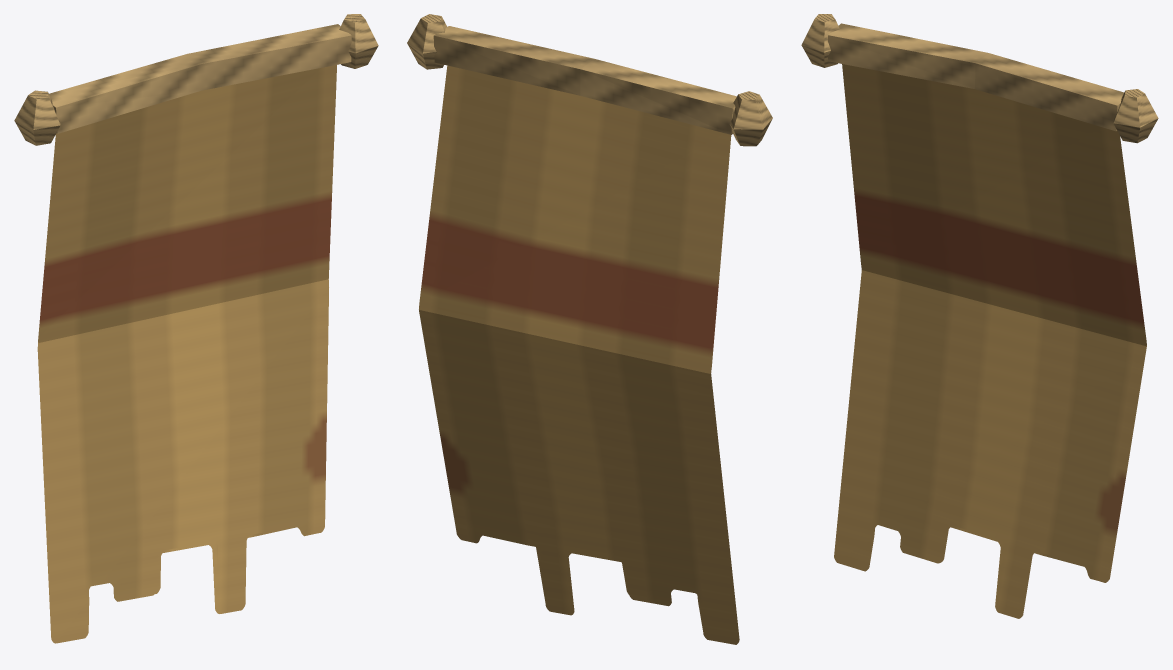
File: SM_MK07_ClothShort.fbx
3 views of the same model, side by side, from view 1: azimuth 30°, elevation 25°; view 2: azimuth 150°, elevation 25°; view 3: azimuth 330°, elevation 25° (orthographic). The views are drawn at different scales.
Visible parts, largest first — view 1: MK07_Cloth, MK07_Knot; view 2: MK07_Cloth, MK07_Knot; view 3: MK07_Cloth, MK07_Knot.
Part boxes in pixels (x1,y1,x2,y2): MK07_Cloth: (37, 65, 336, 643); MK07_Knot: (14, 14, 378, 145); MK07_Cloth: (419, 65, 739, 644); MK07_Knot: (407, 14, 772, 146); MK07_Cloth: (834, 64, 1146, 618); MK07_Knot: (801, 14, 1158, 143).
Size of the model in its own units: 0.3595 by 0.561 by 0.0545.
